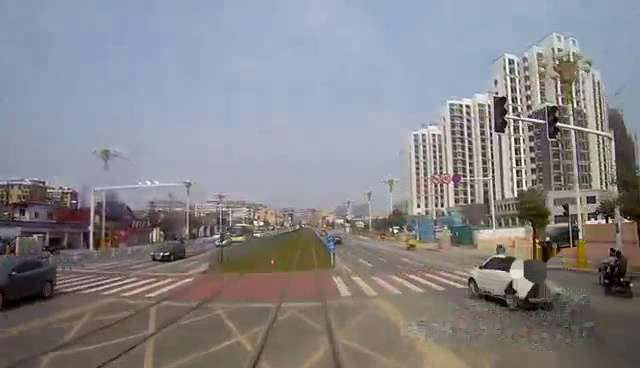car: (468, 248, 567, 311), (152, 237, 188, 265)
